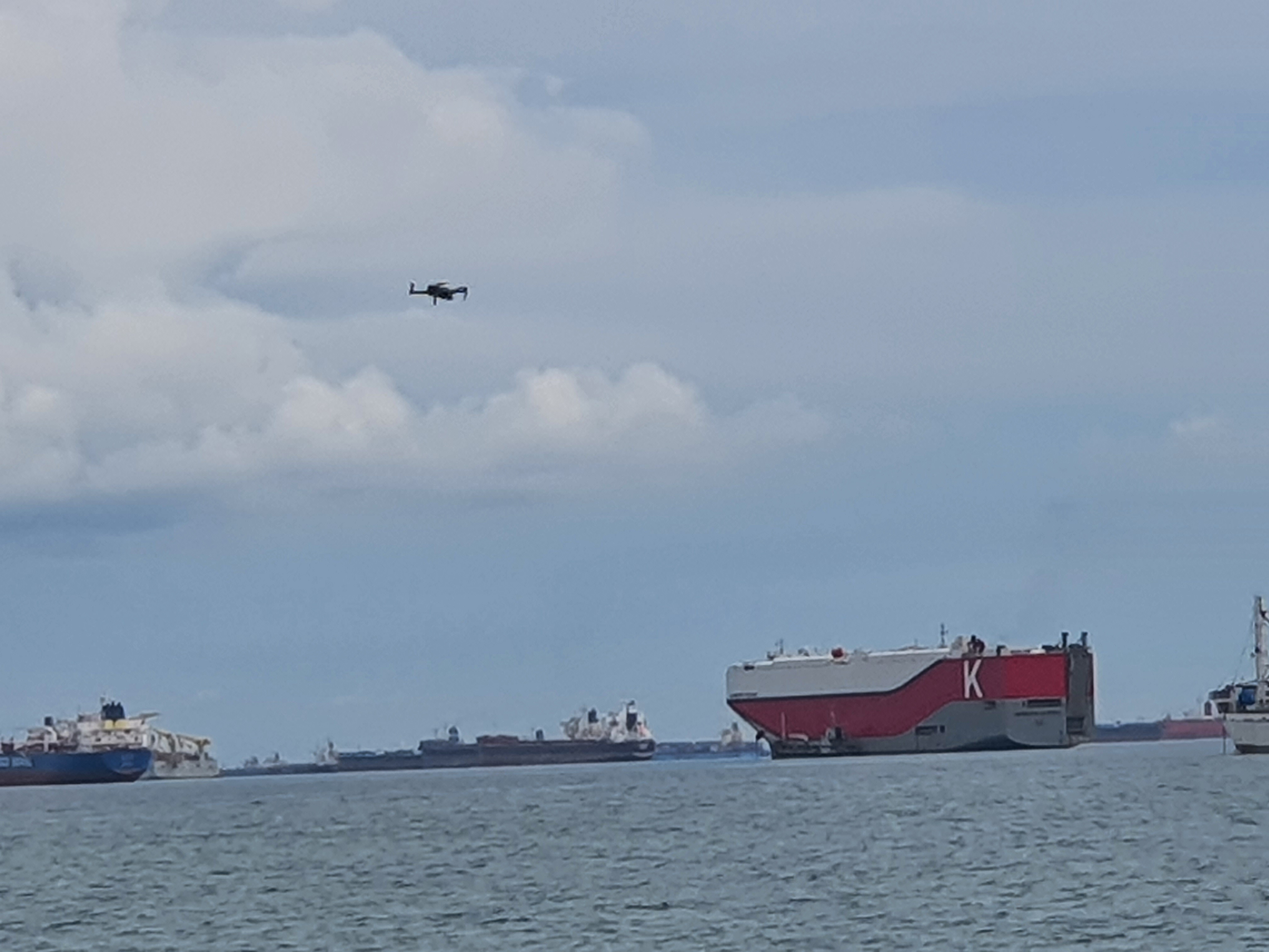drone_other: (405, 275, 472, 307)
